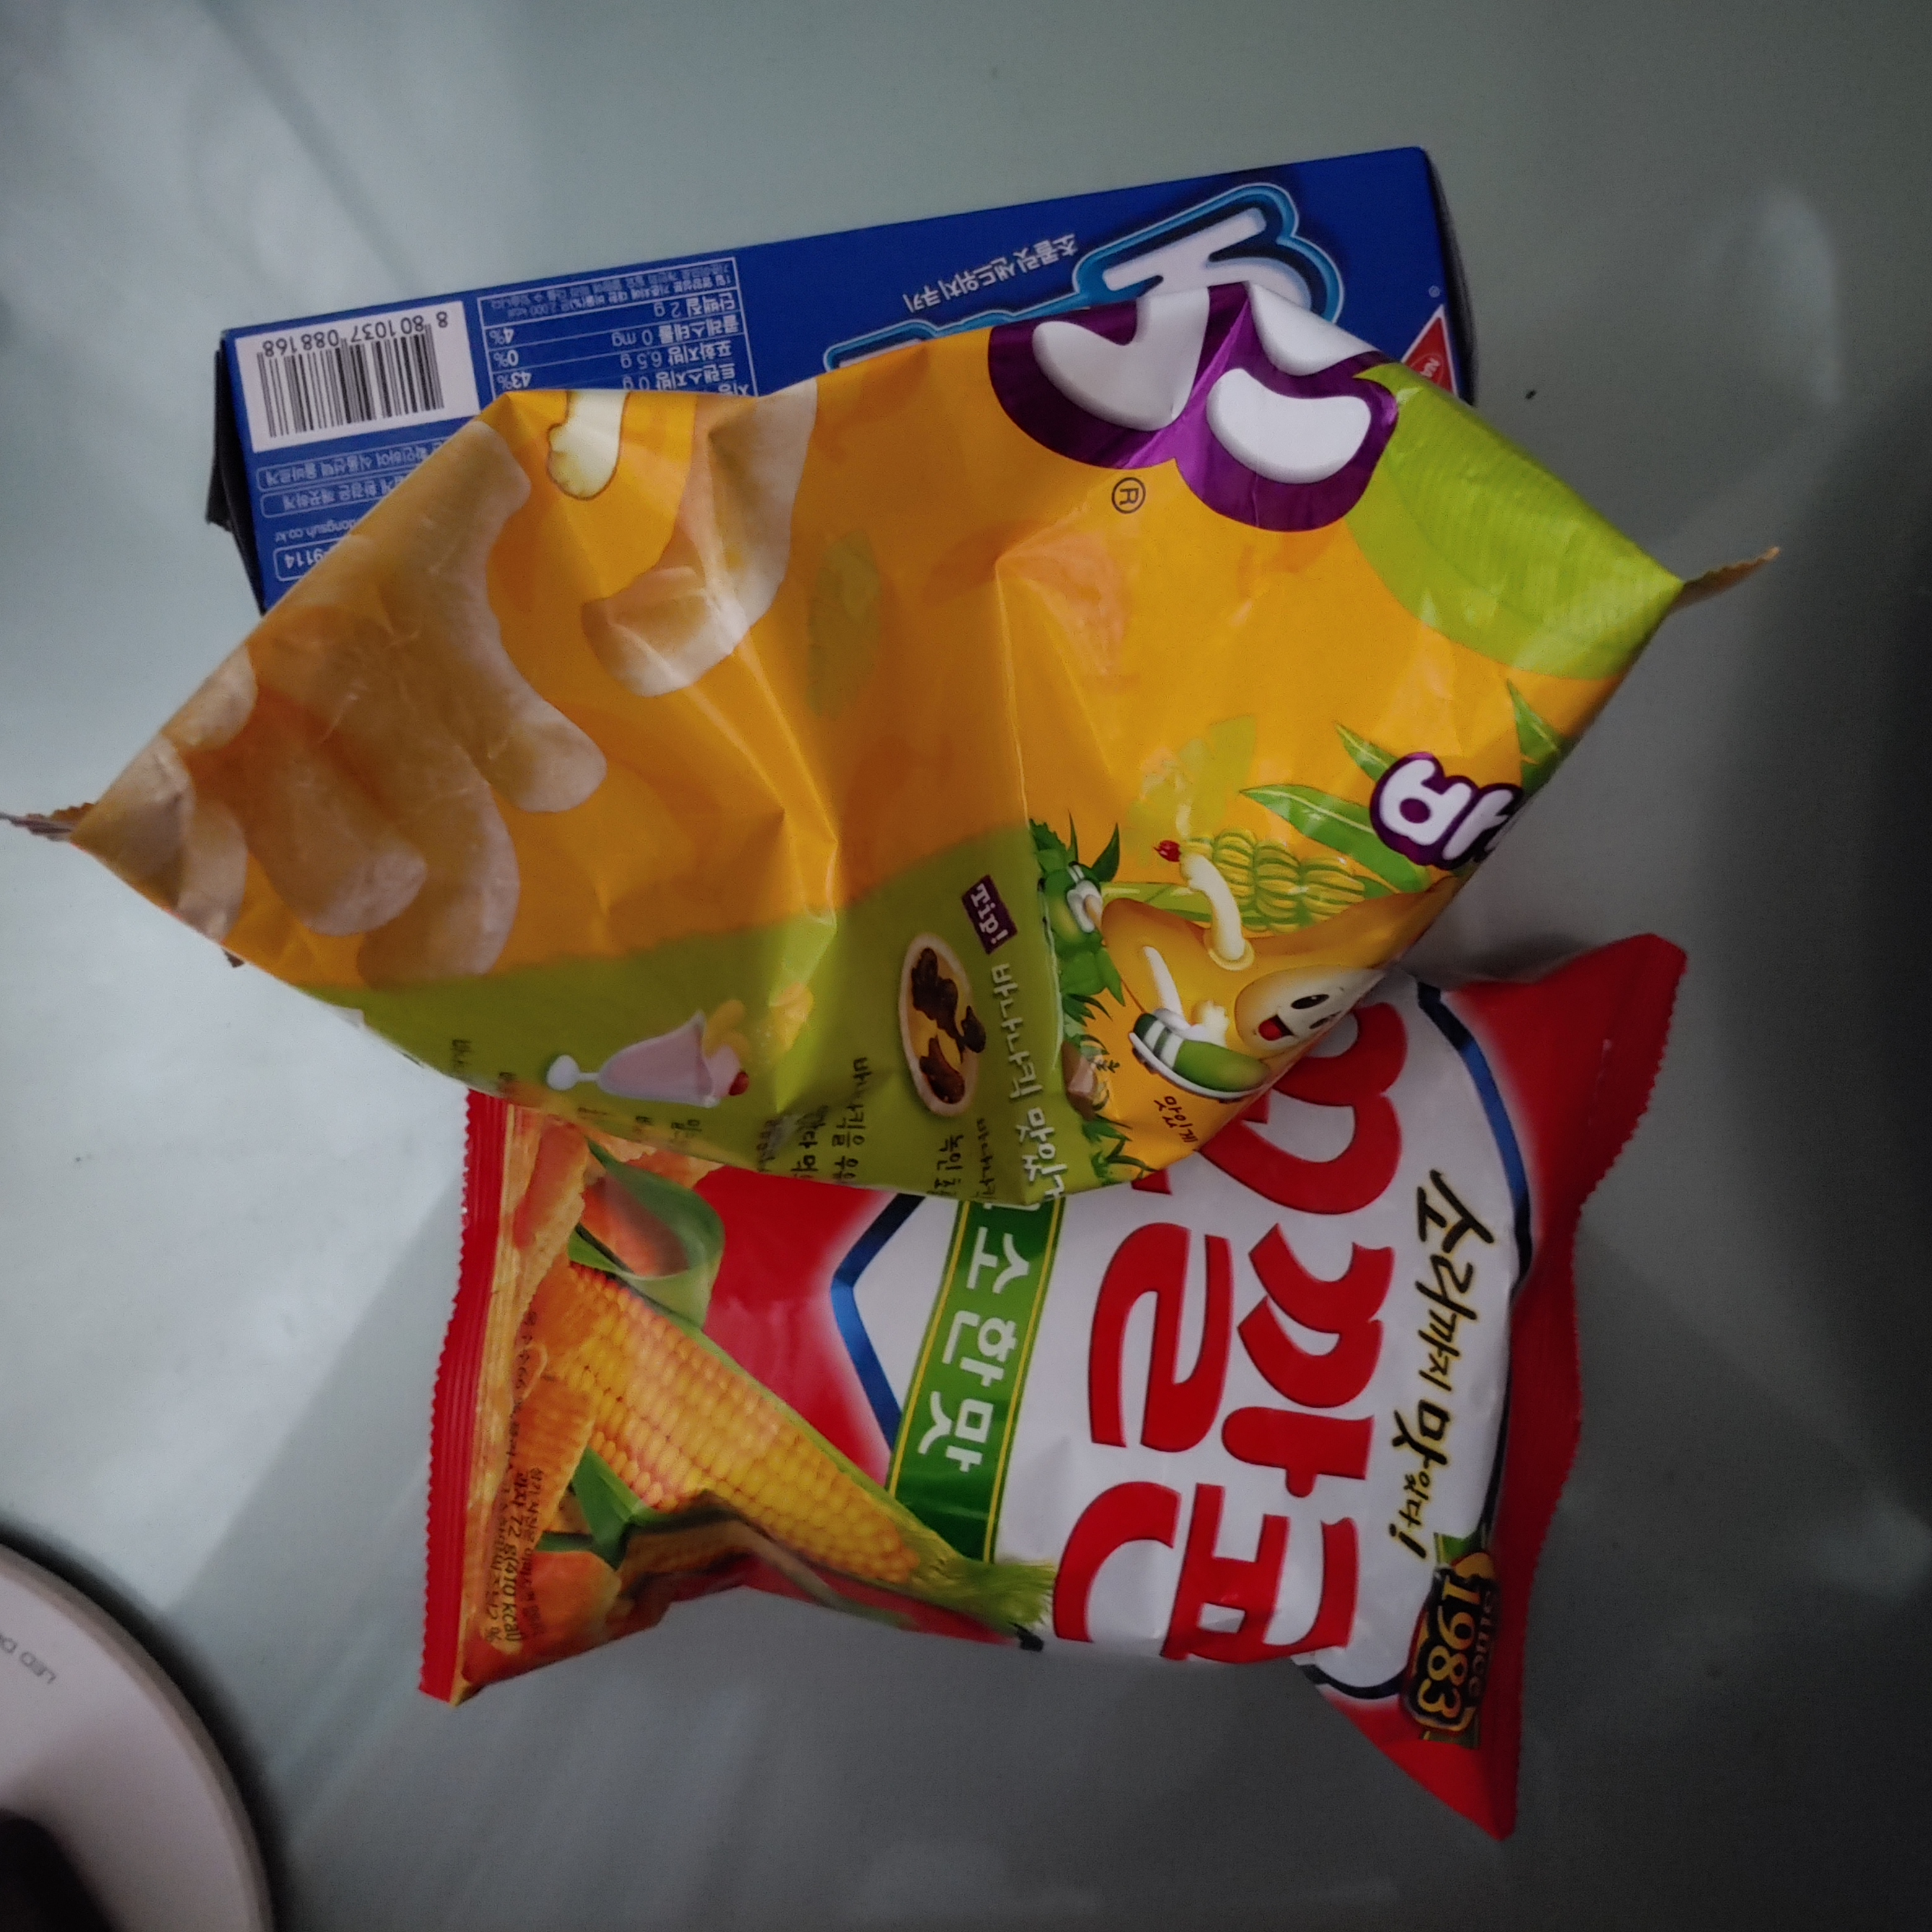banana: (11, 324, 1923, 1265)
ggoggalcon: (387, 892, 1750, 1907)
oreo: (149, 97, 1610, 561)
